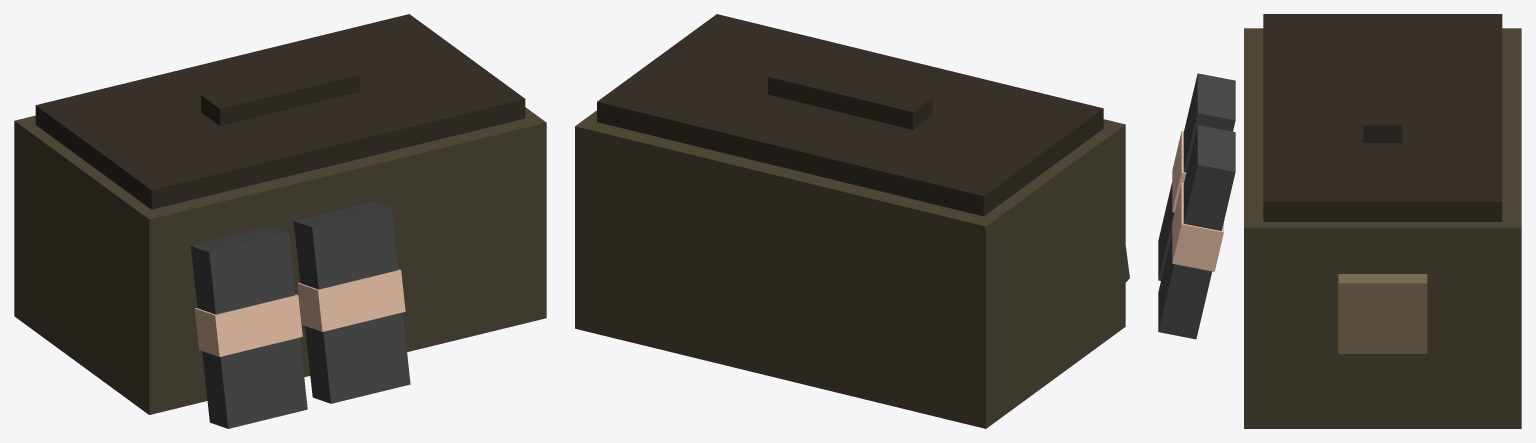
File: ce_ammo_rifle_sabot_c.obj
The picture shows the model from 3 angles, left to right: view 1: azimuth 30°, elevation 25°; view 2: azimuth 150°, elevation 25°; view 3: azimuth 270°, elevation 25°; orthographic projection. The views are drawn at different scales.
Visible parts, largest first — view 1: ce_ammo_rifle_sabot_c_0, ce_ammo_rifle_sabot_c_1, ce_ammo_rifle_sabot_c_4, ce_ammo_rifle_sabot_c_6, ce_ammo_rifle_sabot_c_2, ce_ammo_rifle_sabot_c_7, ce_ammo_rifle_sabot_c_5; view 2: ce_ammo_rifle_sabot_c_0, ce_ammo_rifle_sabot_c_1, ce_ammo_rifle_sabot_c_2; view 3: ce_ammo_rifle_sabot_c_0, ce_ammo_rifle_sabot_c_1, ce_ammo_rifle_sabot_c_6, ce_ammo_rifle_sabot_c_3, ce_ammo_rifle_sabot_c_4, ce_ammo_rifle_sabot_c_2, ce_ammo_rifle_sabot_c_7, ce_ammo_rifle_sabot_c_5.
Part boxes in pixels (left/top/right/bottom): ce_ammo_rifle_sabot_c_0: left=14, top=107, right=546, bottom=414; ce_ammo_rifle_sabot_c_1: left=35, top=14, right=525, bottom=209; ce_ammo_rifle_sabot_c_4: left=191, top=226, right=307, bottom=428; ce_ammo_rifle_sabot_c_6: left=293, top=201, right=410, bottom=403; ce_ammo_rifle_sabot_c_2: left=201, top=61, right=359, bottom=125; ce_ammo_rifle_sabot_c_7: left=297, top=269, right=405, bottom=331; ce_ammo_rifle_sabot_c_5: left=194, top=294, right=302, bottom=356; ce_ammo_rifle_sabot_c_0: left=575, top=110, right=1125, bottom=428; ce_ammo_rifle_sabot_c_1: left=597, top=14, right=1103, bottom=216; ce_ammo_rifle_sabot_c_2: left=768, top=62, right=932, bottom=129; ce_ammo_rifle_sabot_c_0: left=1244, top=28, right=1521, bottom=428; ce_ammo_rifle_sabot_c_1: left=1263, top=14, right=1502, bottom=221; ce_ammo_rifle_sabot_c_6: left=1158, top=125, right=1235, bottom=339; ce_ammo_rifle_sabot_c_3: left=1338, top=274, right=1427, bottom=353; ce_ammo_rifle_sabot_c_4: left=1158, top=73, right=1235, bottom=280; ce_ammo_rifle_sabot_c_2: left=1363, top=55, right=1402, bottom=142; ce_ammo_rifle_sabot_c_7: left=1172, top=182, right=1223, bottom=271; ce_ammo_rifle_sabot_c_5: left=1172, top=131, right=1186, bottom=212.
Size of the model in its own units: 0.89 by 0.475 by 0.6542.
